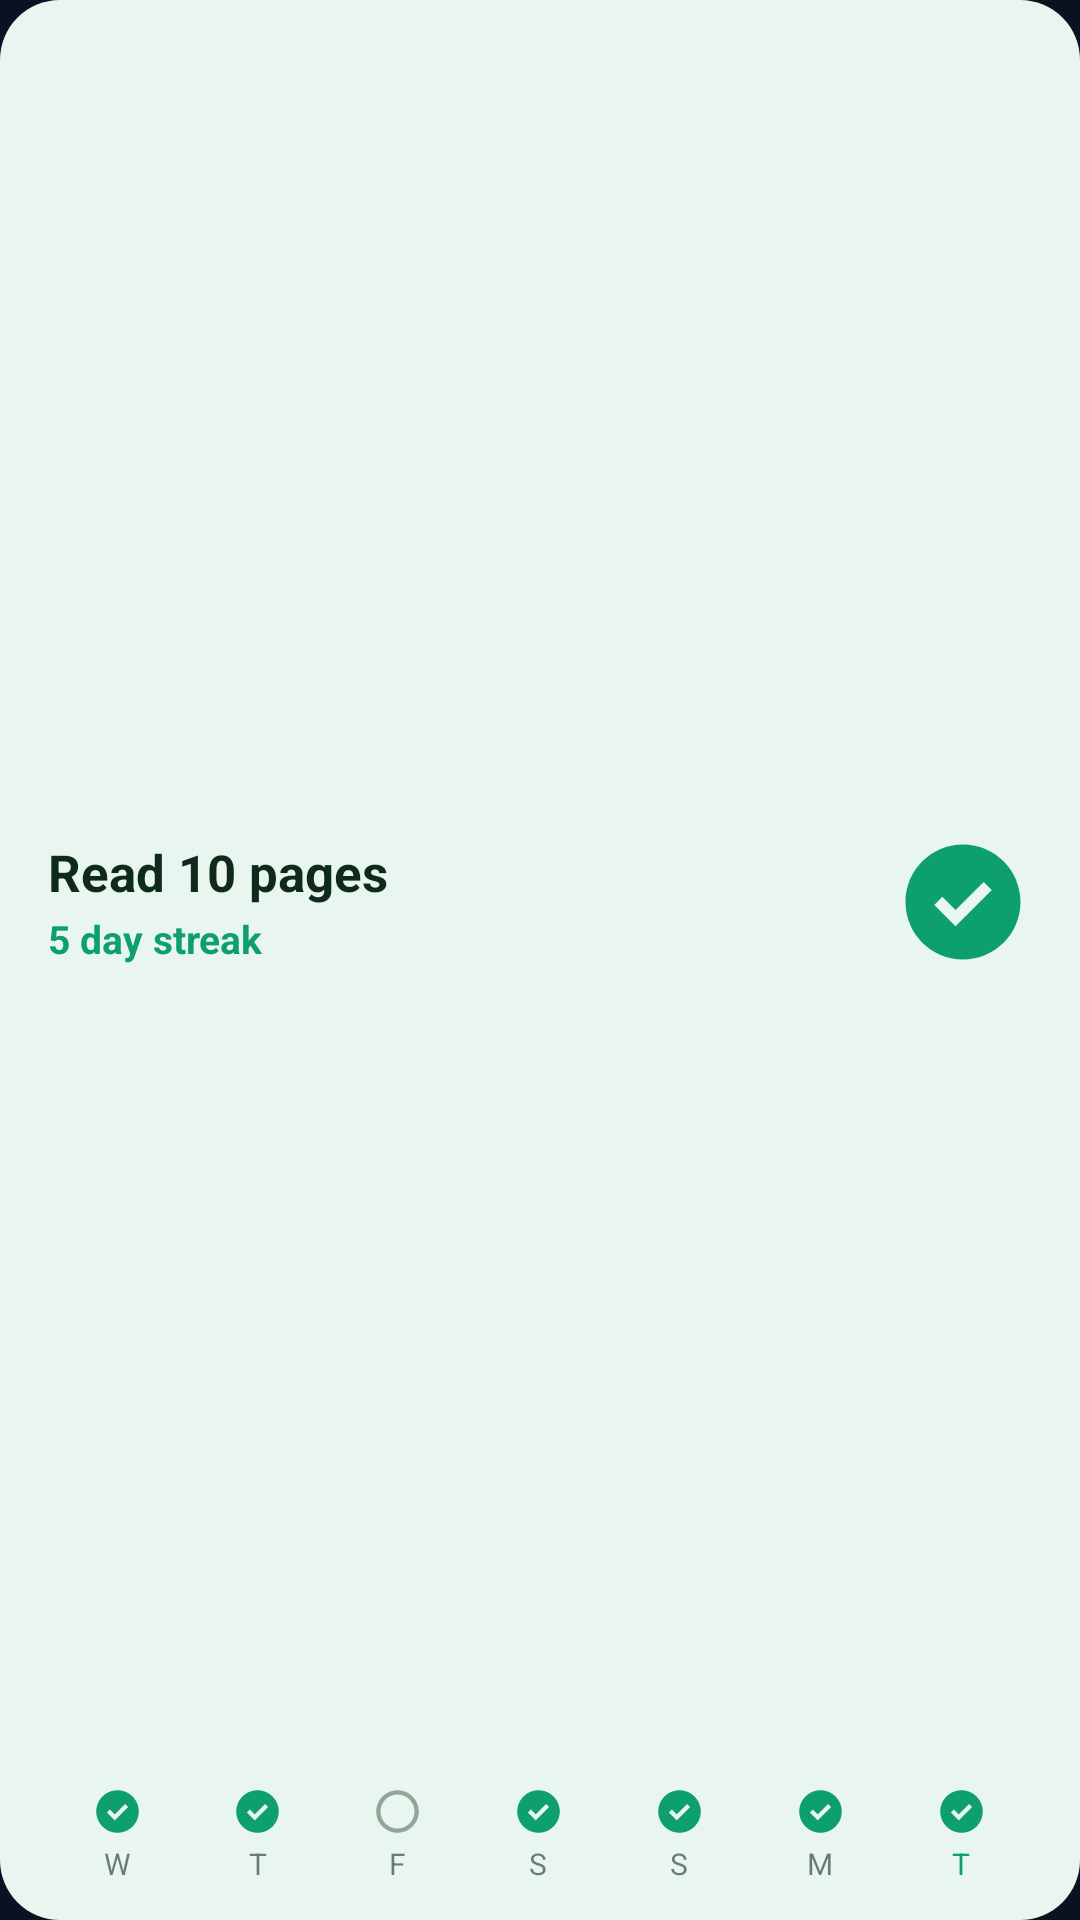

Point at icon controls on the screen. Image size 1080x1920, points as (x,y).
check off: (397,1811)
check on: (963,902), (117,1811), (257,1811), (538,1811), (679,1811), (820,1811), (961,1811)
